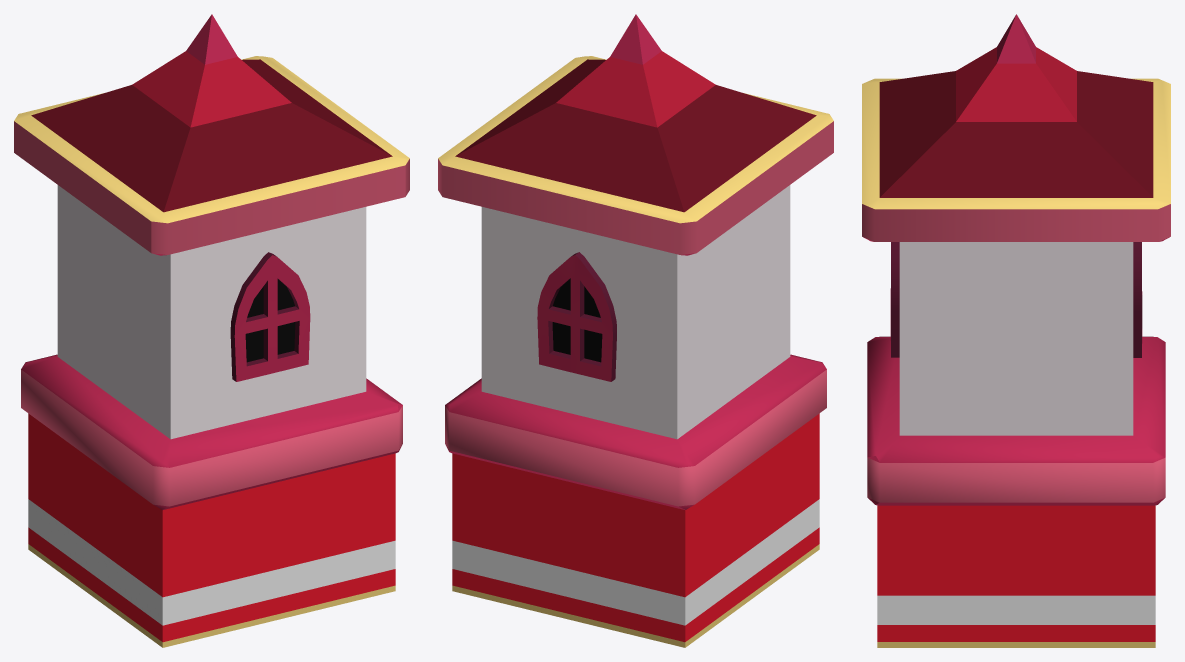
Rendered from House2-2.fbx.
3 views of the same model, side by side, from view 1: azimuth 30°, elevation 25°; view 2: azimuth 150°, elevation 25°; view 3: azimuth 270°, elevation 25° (orthographic). The views are drawn at different scales.
Visible parts, largest first — view 1: Object002; view 2: Object002; view 3: Object002.
Part boxes in pixels (x1,y1,x2,y2): Object002: [14, 14, 409, 647]; Object002: [438, 14, 833, 647]; Object002: [862, 14, 1170, 647].
Size of the model in its own units: 0.5423 by 1.11 by 0.5423.
